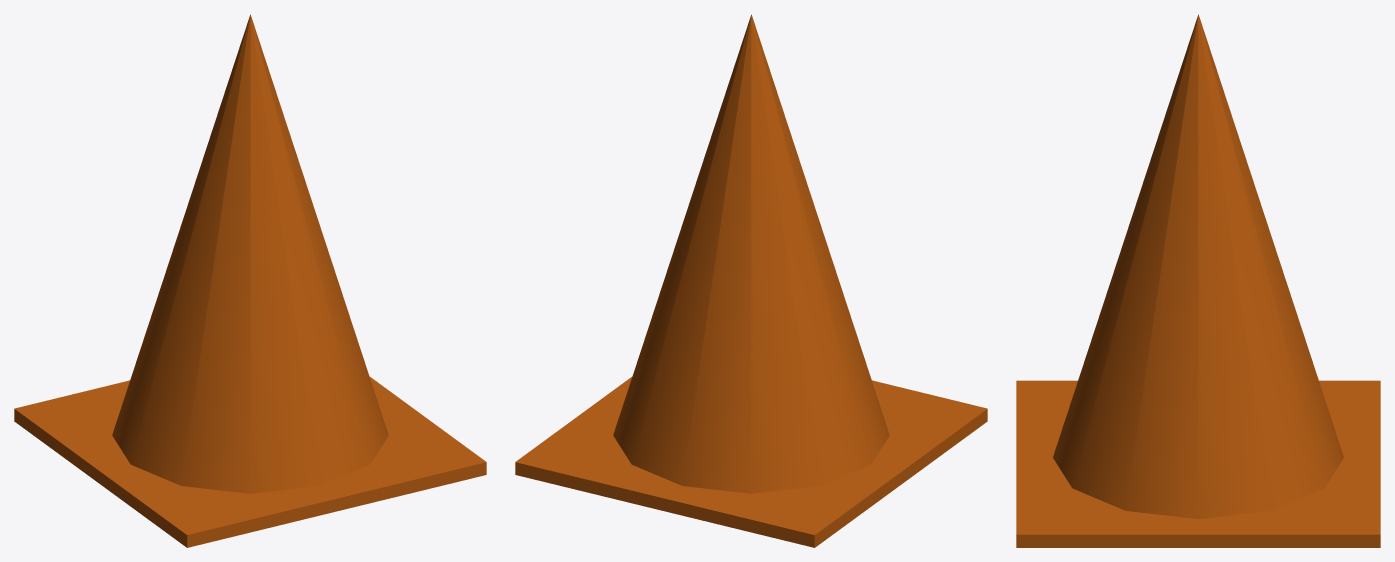
The picture shows the model from 3 angles, left to right: view 1: azimuth 30°, elevation 25°; view 2: azimuth 150°, elevation 25°; view 3: azimuth 270°, elevation 25°; orthographic projection. The views are drawn at different scales.
Parts seen in each view (by area): view 1: SketchUp (×2); view 2: SketchUp (×2); view 3: SketchUp (×2).
Part boxes in pixels (x1=…): SketchUp (×2): x1=14, y1=14, x2=486, y2=547; SketchUp (×2): x1=515, y1=14, x2=987, y2=547; SketchUp (×2): x1=1016, y1=14, x2=1380, y2=547.
Size of the model in its own units: 8.98 by 8.98 by 12.43.
